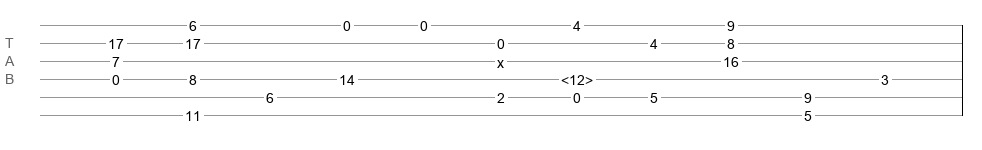0: (112, 72, 120, 82), (343, 18, 351, 28), (420, 18, 428, 28), (497, 36, 505, 46), (573, 90, 581, 100)
11: (185, 108, 201, 118)
14: (339, 72, 355, 82)
16: (723, 54, 739, 64)
17: (108, 36, 124, 46), (185, 36, 201, 46)
2: (497, 90, 505, 100)
3: (881, 72, 889, 82)
4: (573, 18, 581, 28), (650, 36, 658, 46)
5: (650, 90, 658, 100), (804, 108, 812, 118)
6: (189, 18, 197, 28), (266, 90, 274, 100)
7: (112, 54, 120, 64)
8: (189, 72, 197, 82), (727, 36, 735, 46)
9: (727, 18, 735, 28), (804, 90, 812, 100)
harmonic: (561, 72, 593, 82)
x: (497, 55, 504, 63)
